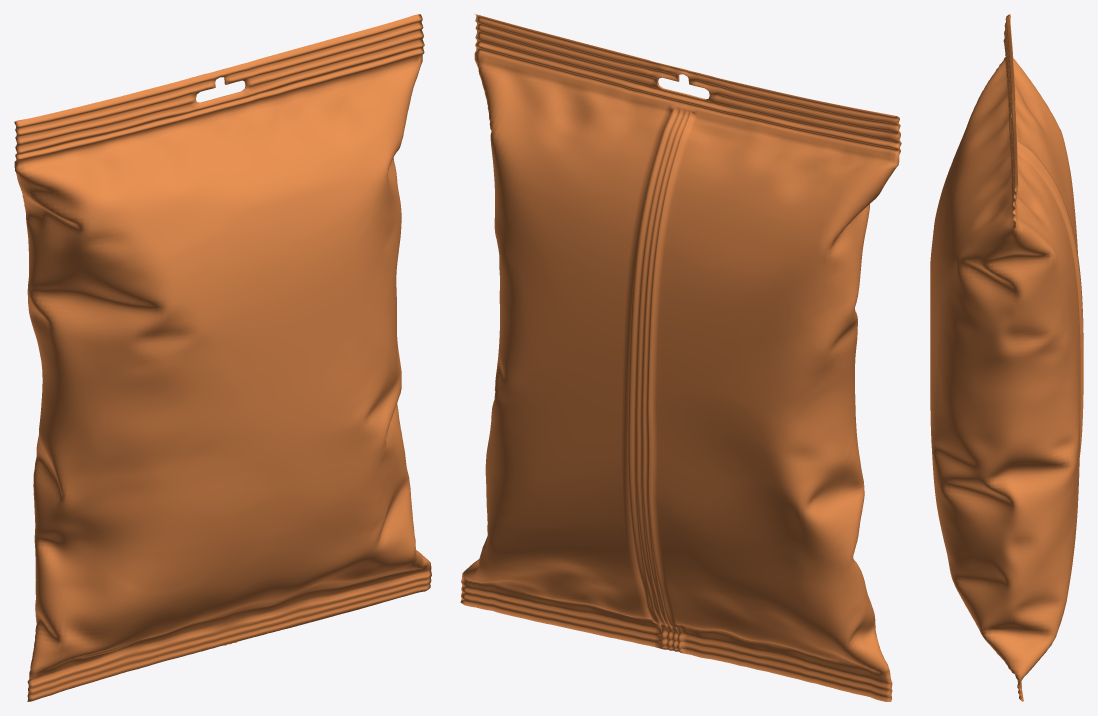
Rendered from sachet_t_.fbx.
The picture shows the model from 3 angles, left to right: view 1: azimuth 30°, elevation 25°; view 2: azimuth 150°, elevation 25°; view 3: azimuth 270°, elevation 25°; orthographic projection. The views are drawn at different scales.
Parts seen in each view (by area): view 1: hanging_package; view 2: hanging_package; view 3: hanging_package.
Part boxes in pixels (x1,y1,x2,y2): hanging_package: [14, 14, 431, 701]; hanging_package: [460, 14, 901, 701]; hanging_package: [930, 14, 1083, 701].
Bounding box in the file's own units: 45.33 × 59.81 × 16.16.
